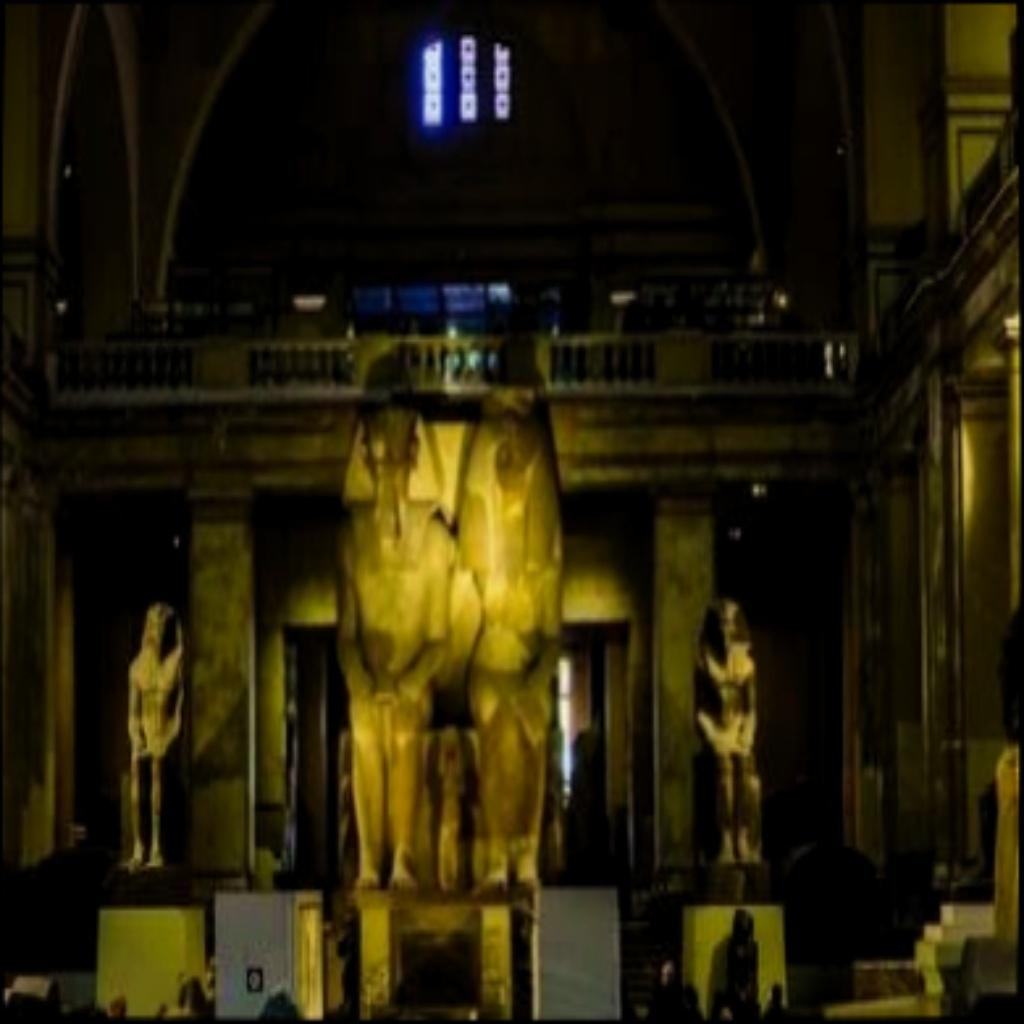Amenhotep III and Tiye: (336, 374, 562, 894)
